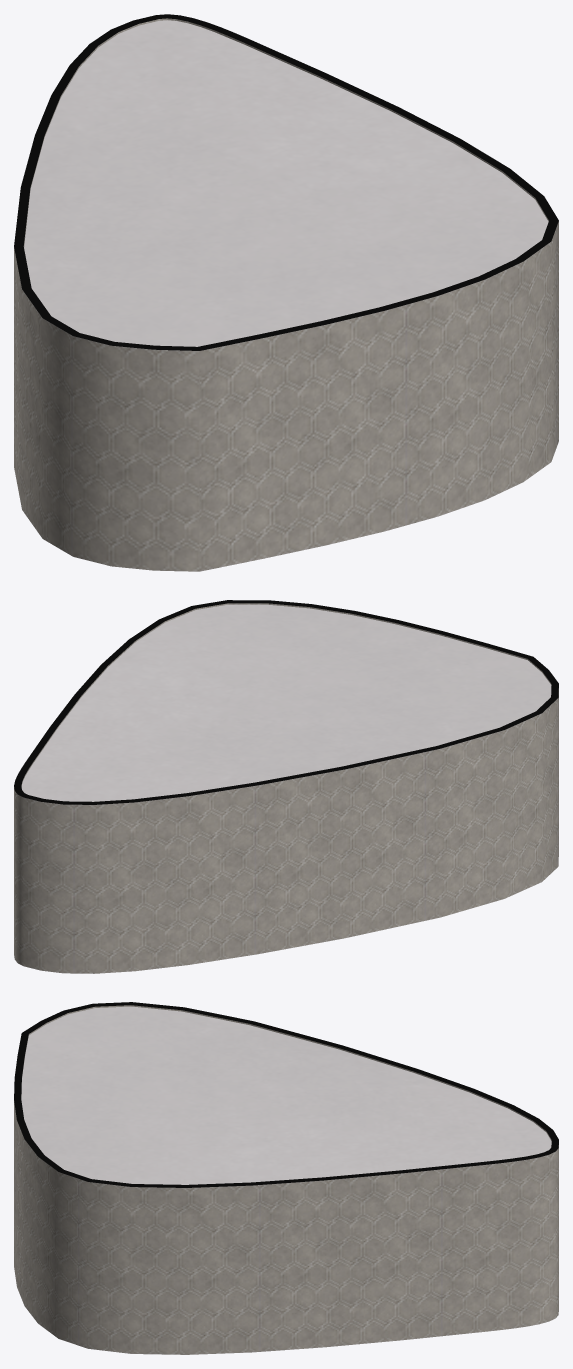
File: Arcade_Environ (1).fbx
3 renders of one model, top to bottom at view 1: azimuth 30°, elevation 25°; view 2: azimuth 150°, elevation 25°; view 3: azimuth 270°, elevation 25°, orthographic. The views are drawn at different scales.
Visible parts, largest first — view 1: Arcade, ArcadeRoof; view 2: Arcade, ArcadeRoof; view 3: Arcade, ArcadeRoof.
Boxes of the visible parts, box(x1,y1,x2,y2) form: Arcade: box(14, 14, 558, 571); ArcadeRoof: box(24, 20, 548, 346); Arcade: box(14, 600, 558, 973); ArcadeRoof: box(21, 604, 551, 801); Arcade: box(14, 1002, 558, 1354); ArcadeRoof: box(21, 1006, 551, 1184).
Bounding box in the file's own units: 8.22 × 3.44 × 10.18.
